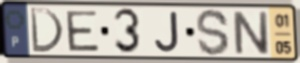3: (111, 6, 145, 56)
D: (28, 6, 66, 55)
E: (64, 9, 101, 53)
J: (153, 10, 181, 54)
N: (230, 9, 272, 56)
S: (195, 8, 231, 58)
